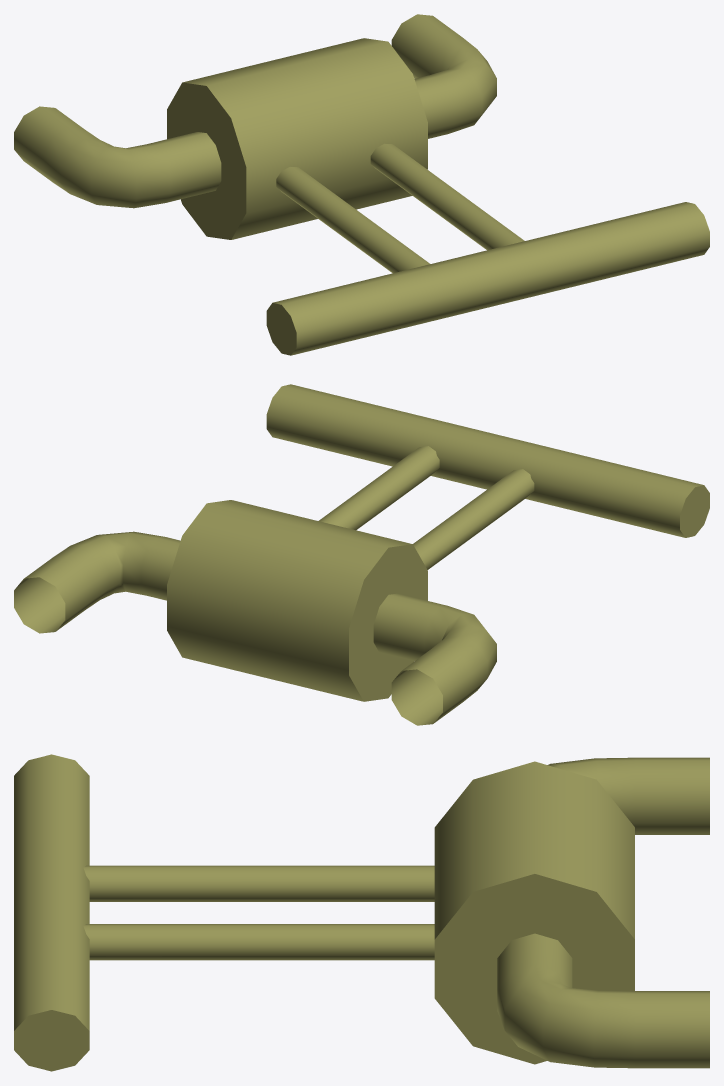
The model's file is brokenLever.fbx.
3 renders of one model, top to bottom at view 1: azimuth 30°, elevation 25°; view 2: azimuth 150°, elevation 25°; view 3: azimuth 270°, elevation 25°, orthographic. The views are drawn at different scales.
Visible parts, largest first — view 1: brokenLever, leverMount; view 2: brokenLever, leverMount; view 3: brokenLever, leverMount.
Part boxes in pixels (x1,y1,x2,y2): brokenLever: [167, 38, 709, 355]; leverMount: [14, 14, 496, 208]; brokenLever: [167, 384, 709, 701]; leverMount: [14, 531, 496, 725]; brokenLever: [14, 754, 634, 1071]; leverMount: [497, 757, 709, 1068].
Bounding box in the file's own units: 9.08 × 3.05 × 10.09.
